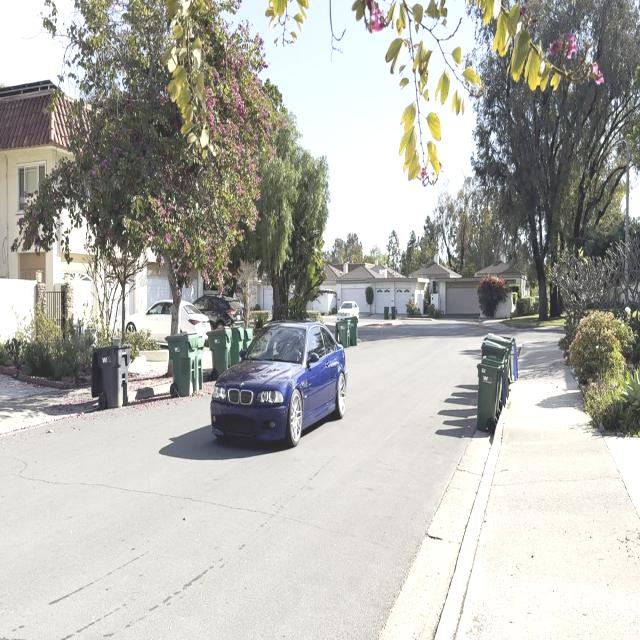Carbeetle: (205, 310, 351, 455)
